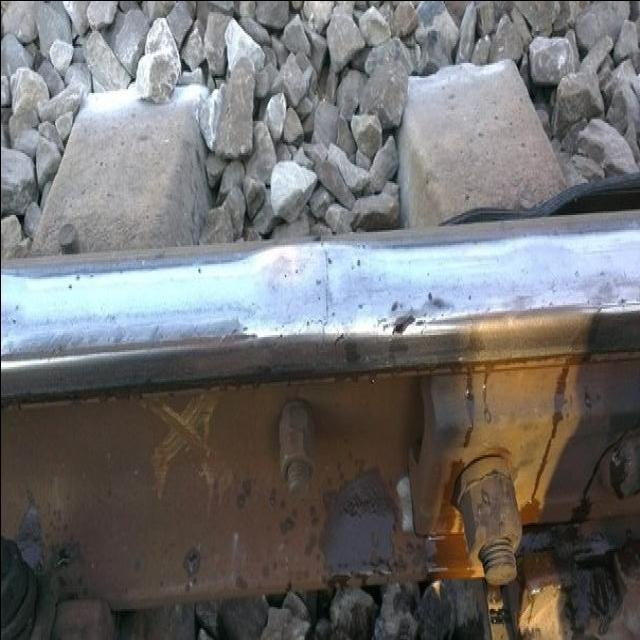broken_rail_medium: (376, 309, 416, 337), (419, 285, 449, 318), (67, 271, 79, 289), (12, 300, 19, 326), (389, 297, 399, 315), (617, 294, 627, 304), (196, 265, 200, 273)
head_checks_high: (260, 242, 366, 334)
